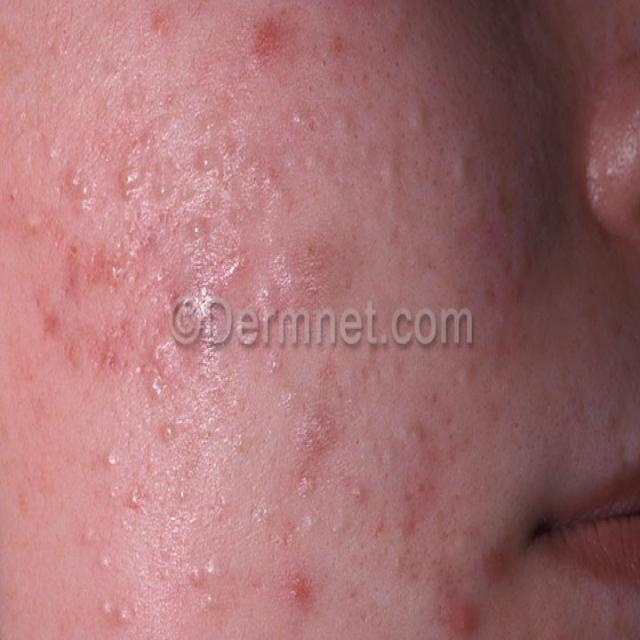Acne: (62, 235, 129, 298), (188, 551, 227, 615), (279, 560, 319, 612), (443, 594, 485, 638), (96, 592, 142, 630), (144, 342, 170, 404), (302, 408, 335, 454), (250, 12, 280, 60), (483, 538, 511, 588), (63, 165, 96, 205), (94, 341, 126, 378), (152, 151, 172, 205), (118, 161, 144, 201), (20, 203, 48, 240), (147, 5, 174, 43), (218, 251, 244, 289), (274, 250, 296, 294), (39, 303, 64, 341), (193, 142, 217, 180), (97, 442, 123, 476), (40, 137, 65, 172), (296, 462, 319, 500), (285, 102, 309, 138), (344, 472, 369, 506), (157, 413, 179, 451), (298, 235, 324, 266), (402, 418, 428, 449), (406, 101, 428, 135), (122, 482, 146, 513), (95, 546, 118, 578), (185, 213, 208, 245)
